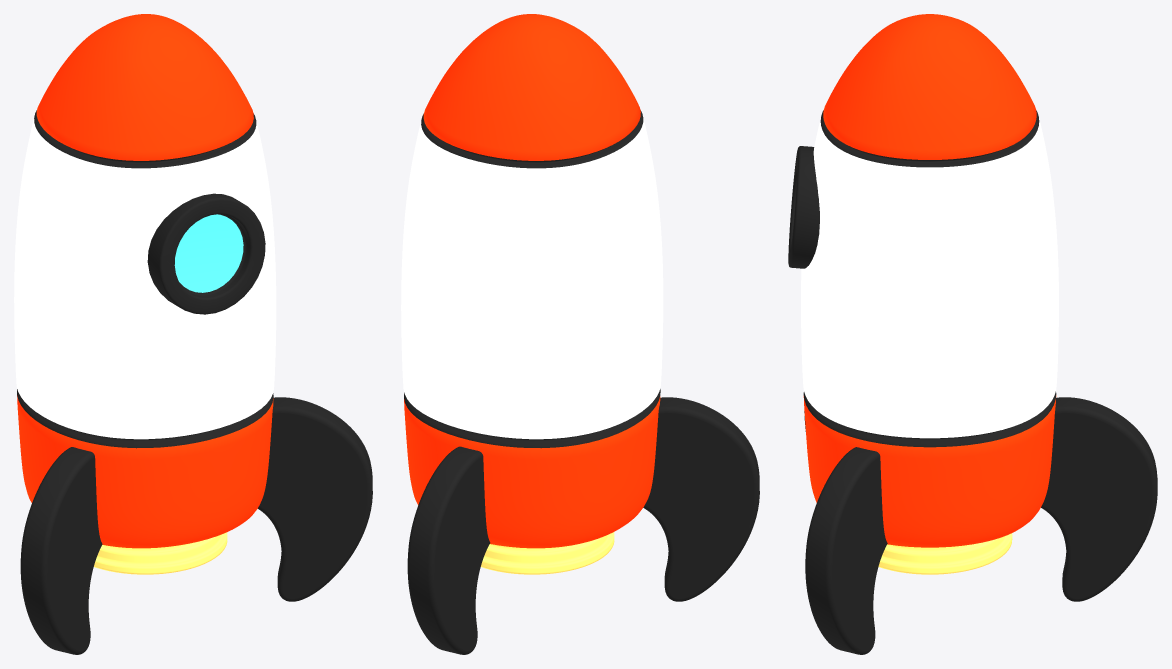
File: rocket.glb
3 views of the same model, side by side, from view 1: azimuth 30°, elevation 25°; view 2: azimuth 150°, elevation 25°; view 3: azimuth 270°, elevation 25° (orthographic).
Visible parts, largest first — view 1: Cube, BezierCircle.002, BezierCircle, Cylinder; view 2: Cube, BezierCircle, BezierCircle.001; view 3: Cube, BezierCircle.001, BezierCircle.002, Cylinder.
Part boxes in pixels (box(x1,y1,x2,y2)): Cube: box(14, 14, 276, 574); BezierCircle.002: box(258, 397, 372, 601); BezierCircle: box(20, 447, 102, 654); Cylinder: box(147, 193, 265, 314); Cube: box(401, 14, 663, 574); BezierCircle: box(643, 397, 759, 601); BezierCircle.001: box(407, 446, 490, 654); Cube: box(801, 14, 1058, 574); BezierCircle.001: box(1041, 397, 1157, 601); BezierCircle.002: box(805, 447, 887, 654); Cylinder: box(788, 146, 819, 268).
Size of the model in its own units: 3.05 by 4.78 by 2.77.
